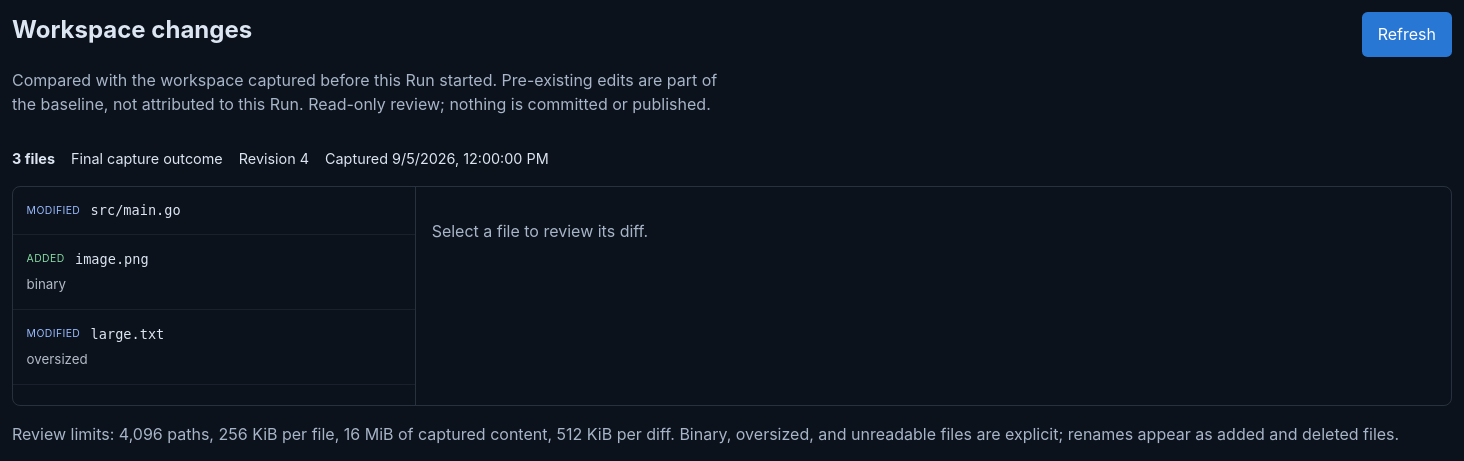
Test case: Run Changes › rejects a stale file revision and refreshes without retaining its diff
Step 1. Click the button "modified src/main.go" → (53, 210), box [13,186,415,235]
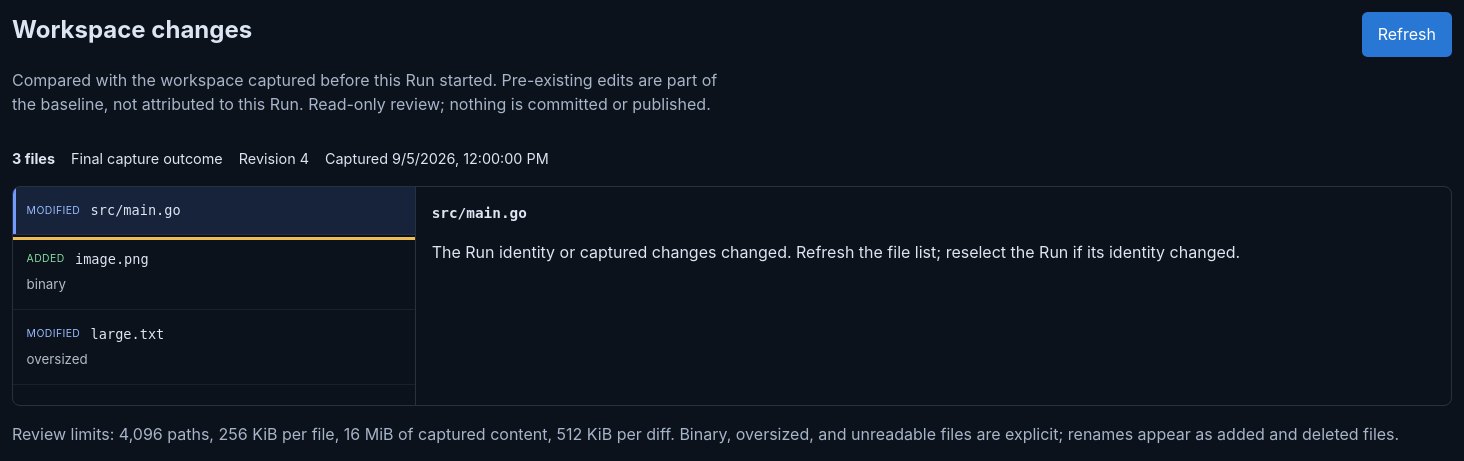
Expected: the message shows "Refresh the file list", [432,242,1240,262]
Step 2. Click the button "Refresh" → (1407, 34), box [1362,12,1452,57]
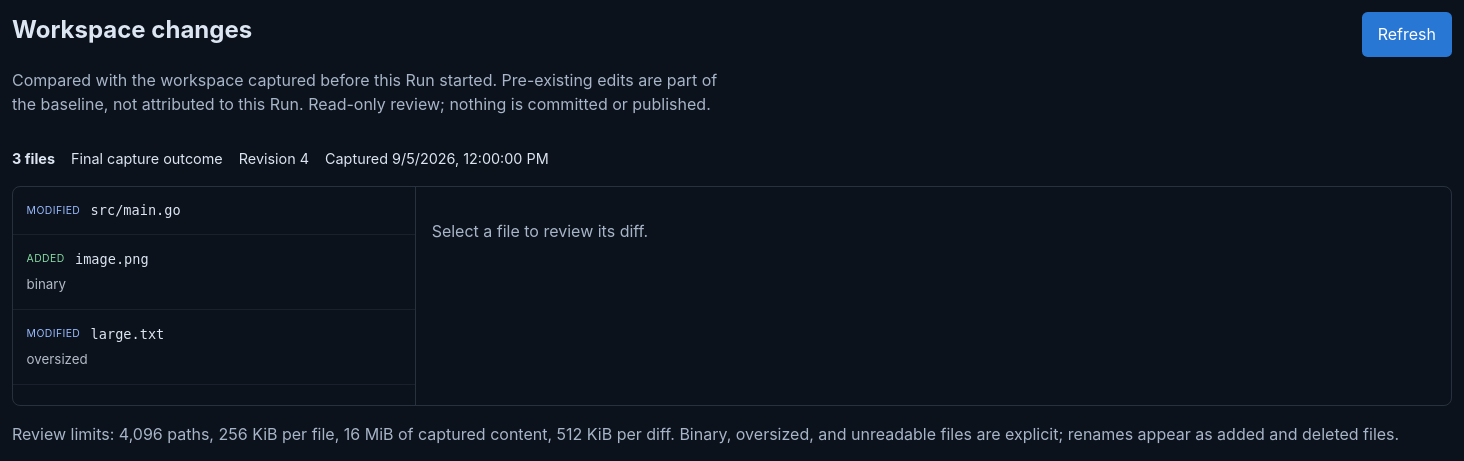
Expected: the message is gone
Expected: the text "Select a file to review its diff." is shown, [432,220,648,240]
